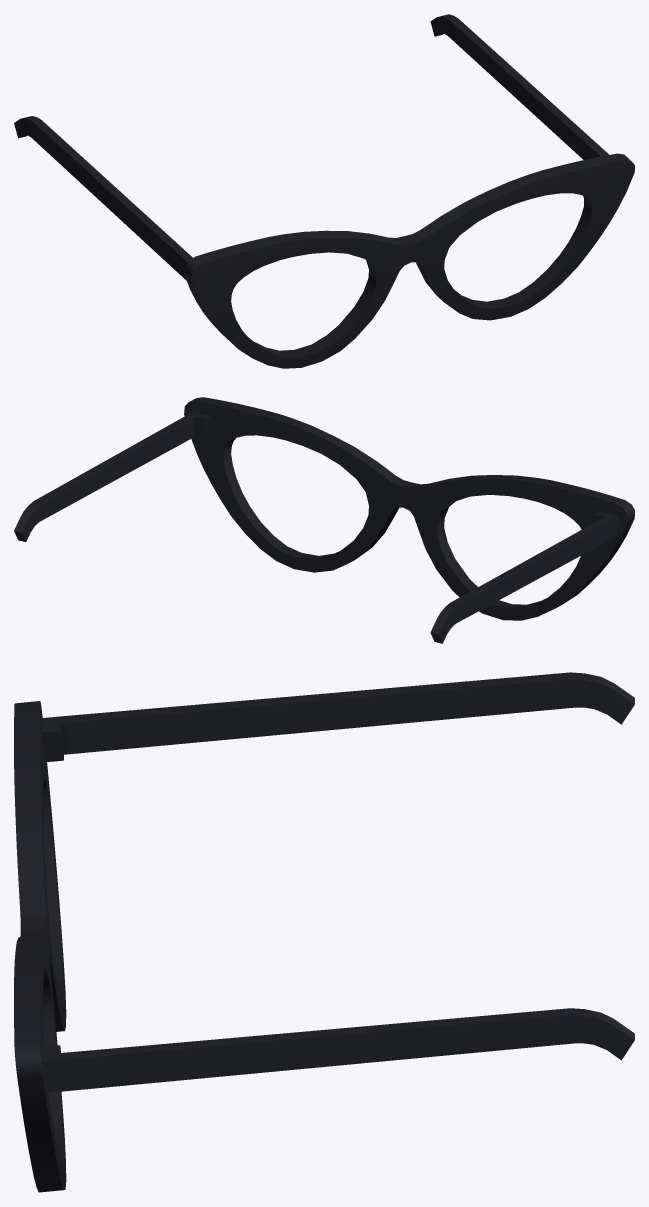
File: SM_MISC_Glasses_CatEye.fbx
The picture shows the model from 3 angles, top to bottom: view 1: azimuth 30°, elevation 25°; view 2: azimuth 150°, elevation 25°; view 3: azimuth 270°, elevation 25°; orthographic projection. The views are drawn at different scales.
Parts seen in each view (by area): view 1: MISC_Glasses_CatEye; view 2: MISC_Glasses_CatEye; view 3: MISC_Glasses_CatEye.
Part boxes in pixels (bbox=[...]): MISC_Glasses_CatEye: bbox=[14, 14, 634, 368]; MISC_Glasses_CatEye: bbox=[14, 397, 634, 643]; MISC_Glasses_CatEye: bbox=[14, 672, 634, 1192].
Bounding box in the file's own units: 58.61 × 19.57 × 43.08.
1 material, 1 textured.
